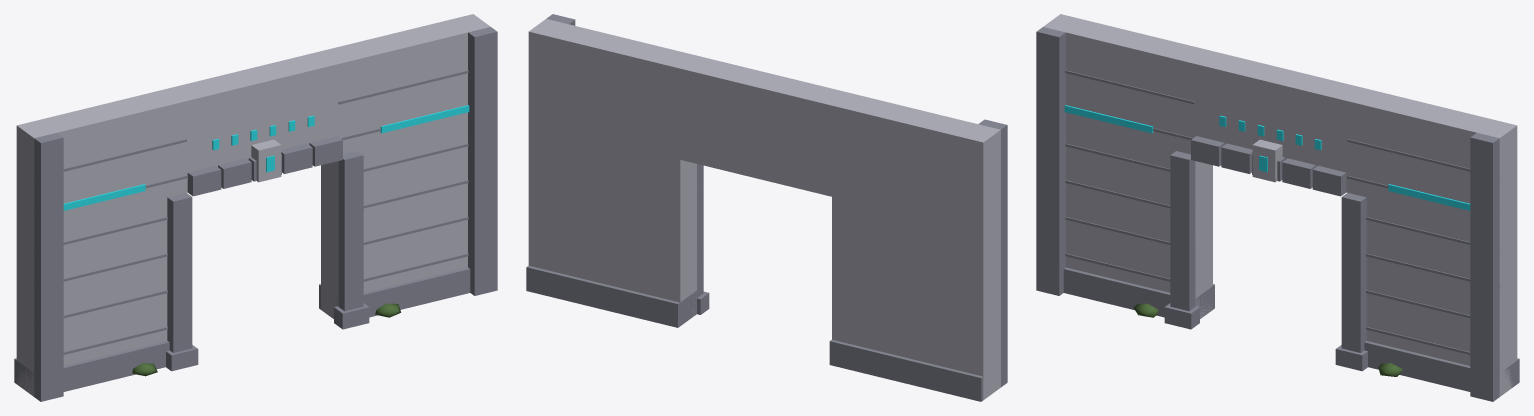
Rendered from archive_arch.glb.
3 renders of one model, left to right at view 1: azimuth 30°, elevation 25°; view 2: azimuth 150°, elevation 25°; view 3: azimuth 330°, elevation 25°, orthographic.
Visible parts, largest first — view 1: plinth; view 2: plinth; view 3: plinth.
Part boxes in pixels (x1=…): plinth: x1=14, y1=14, x2=497, y2=401; plinth: x1=526, y1=14, x2=1007, y2=401; plinth: x1=1036, y1=14, x2=1519, y2=401.
Size of the model in its own units: 12 by 6.54 by 1.32.
